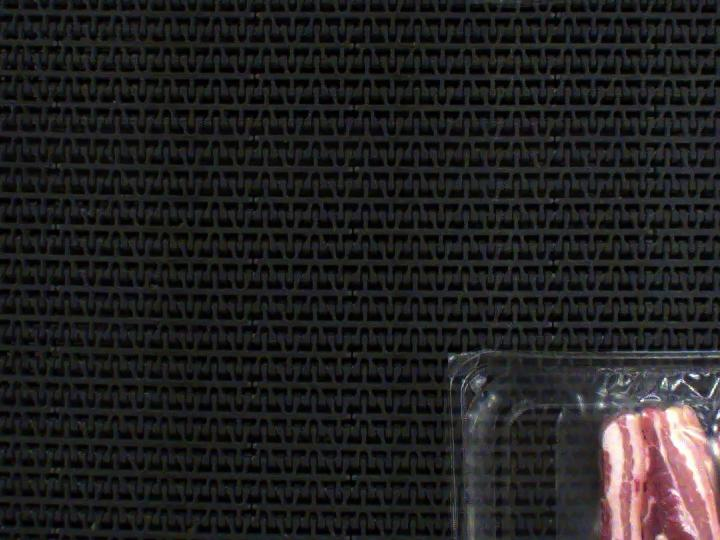unsealed: (537, 358, 720, 540)
